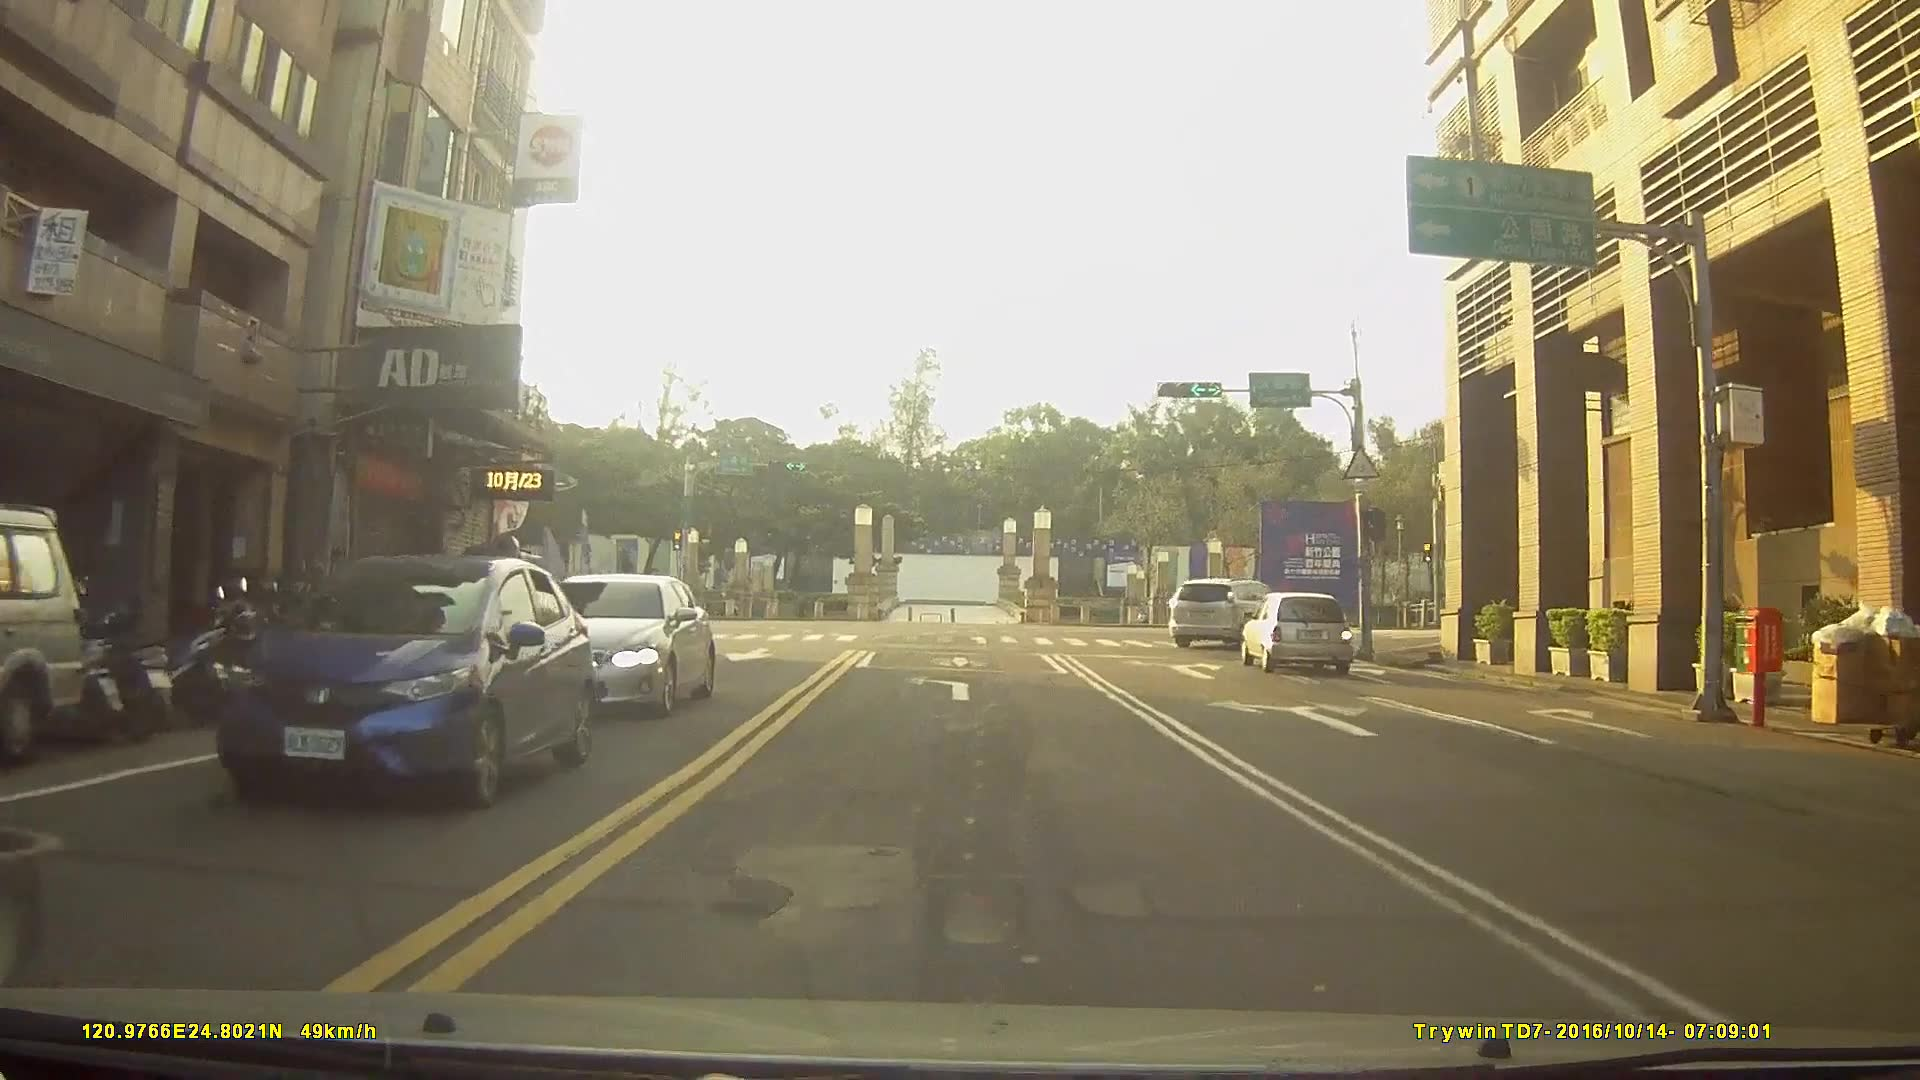vehicle: (215, 551, 596, 808), (516, 572, 713, 715), (0, 504, 82, 771), (1240, 589, 1350, 673), (1168, 578, 1286, 647)
